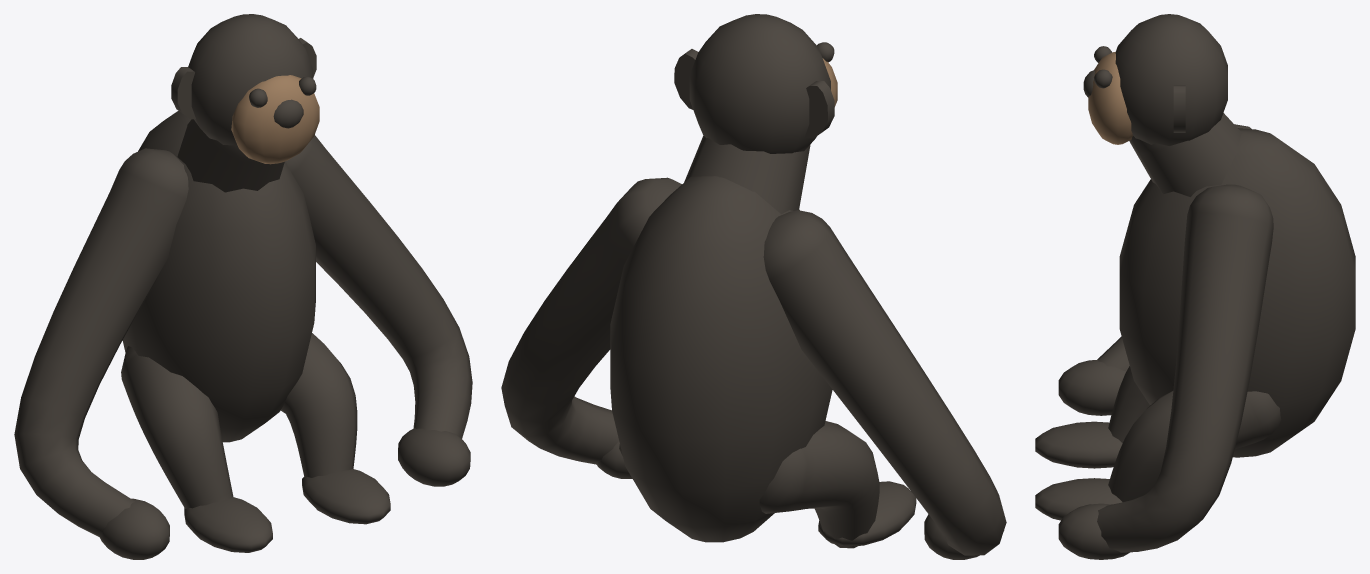
File: jungle-chimp.glb
3 views of the same model, side by side, from view 1: azimuth 30°, elevation 25°; view 2: azimuth 150°, elevation 25°; view 3: azimuth 270°, elevation 25° (orthographic). The views are drawn at different scales.
Visible parts, largest first — view 1: chimpanzee; view 2: chimpanzee; view 3: chimpanzee.
Boxes of the visible parts, x1,y1,x2,y2 form: chimpanzee: (14,14,472,559); chimpanzee: (501,14,1006,559); chimpanzee: (1035,14,1355,559).
Size of the model in its own units: 1.02 by 1.06 by 0.6501.
